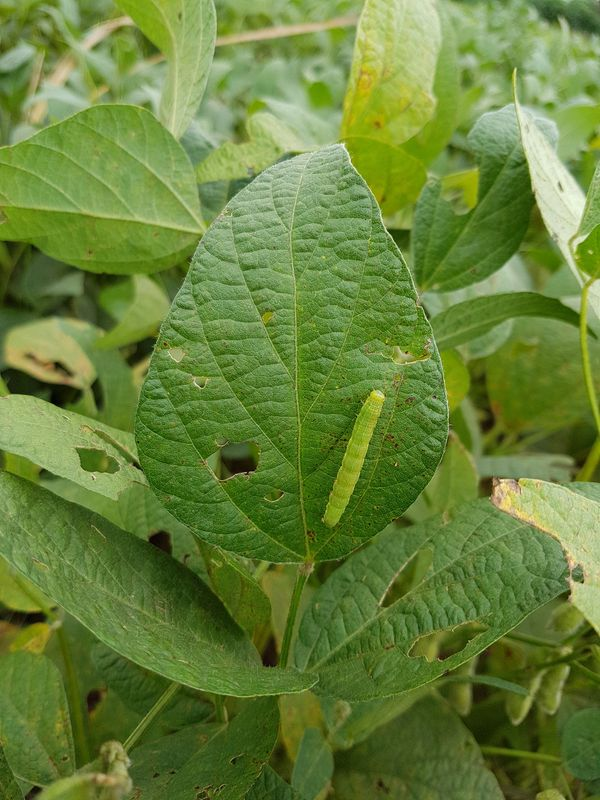Anticarsia_gemmatalis: (309, 380, 410, 535)
